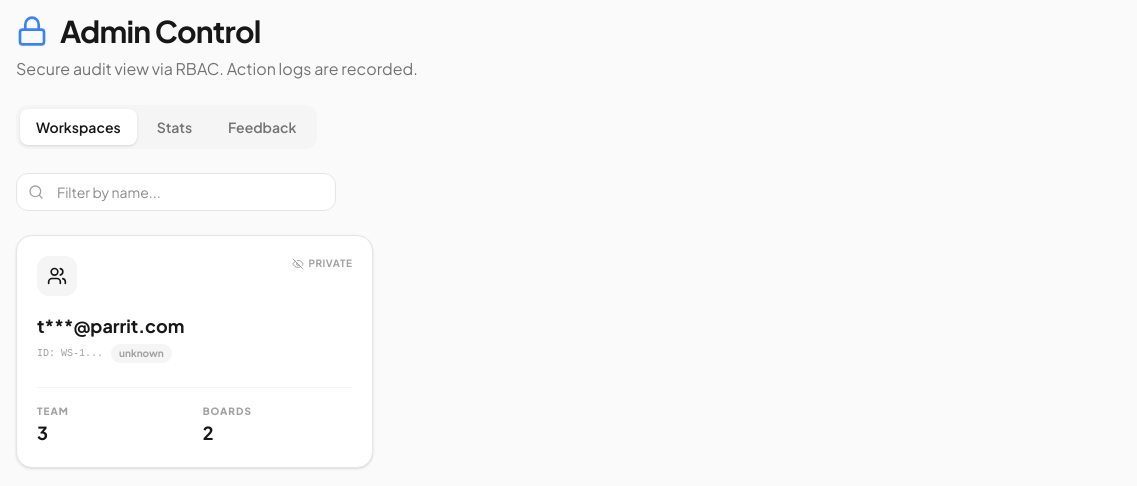
AdminPortal › marks feedback as read and removes the item from the list
The image size is (1137, 486).
Expected: the heading "t***@parrit.com" is shown, [37, 314, 184, 337]
Click the button "feedback" at (262, 127), box [212, 109, 312, 145]
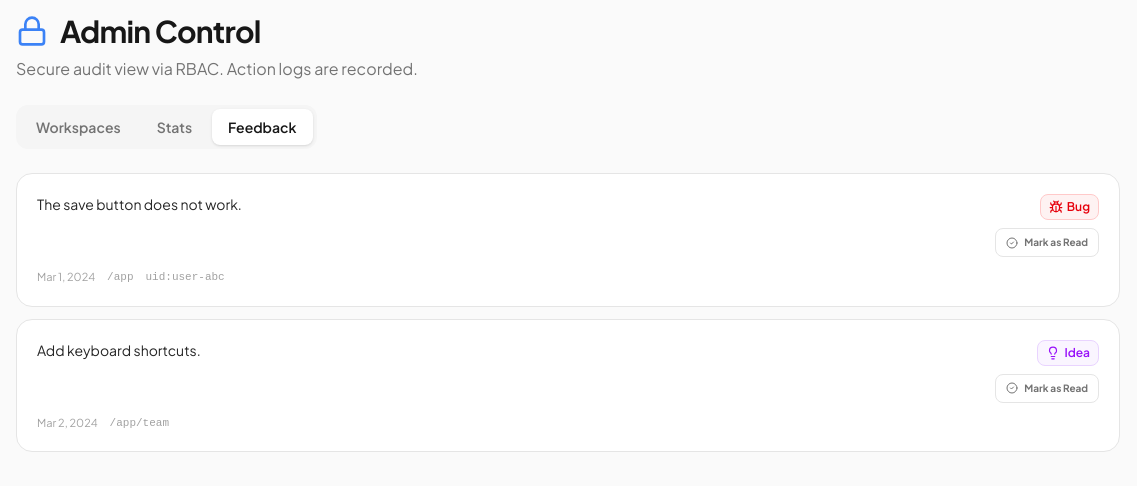
Result: the text "The save button does not work." is shown at [37, 195, 242, 213]
Click the button titled "mark as handled" below "Bug" at (1047, 242), box [995, 228, 1099, 257]
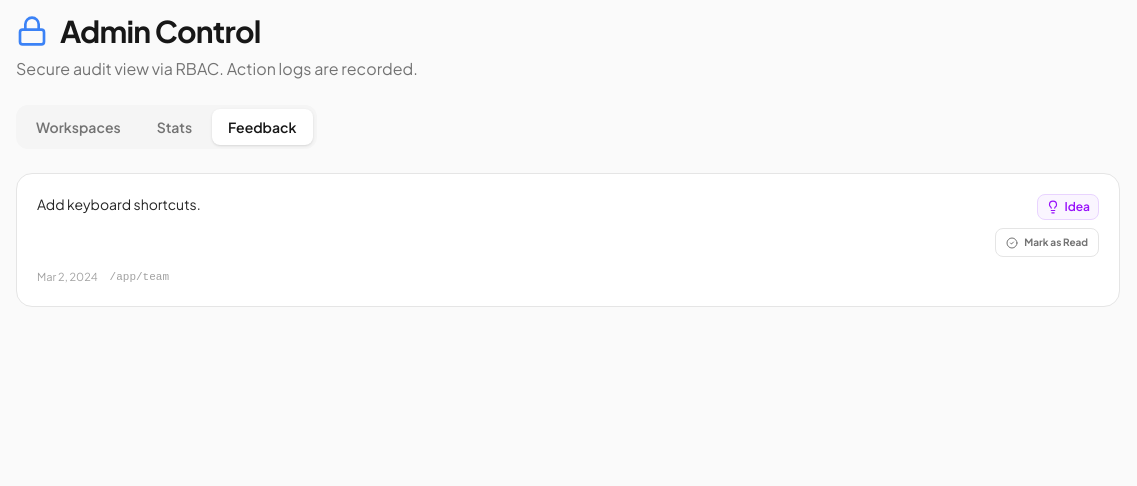
Result: the text "Add keyboard shortcuts." is shown at [37, 195, 201, 213]
Result: the text "The save button does not work." is gone
